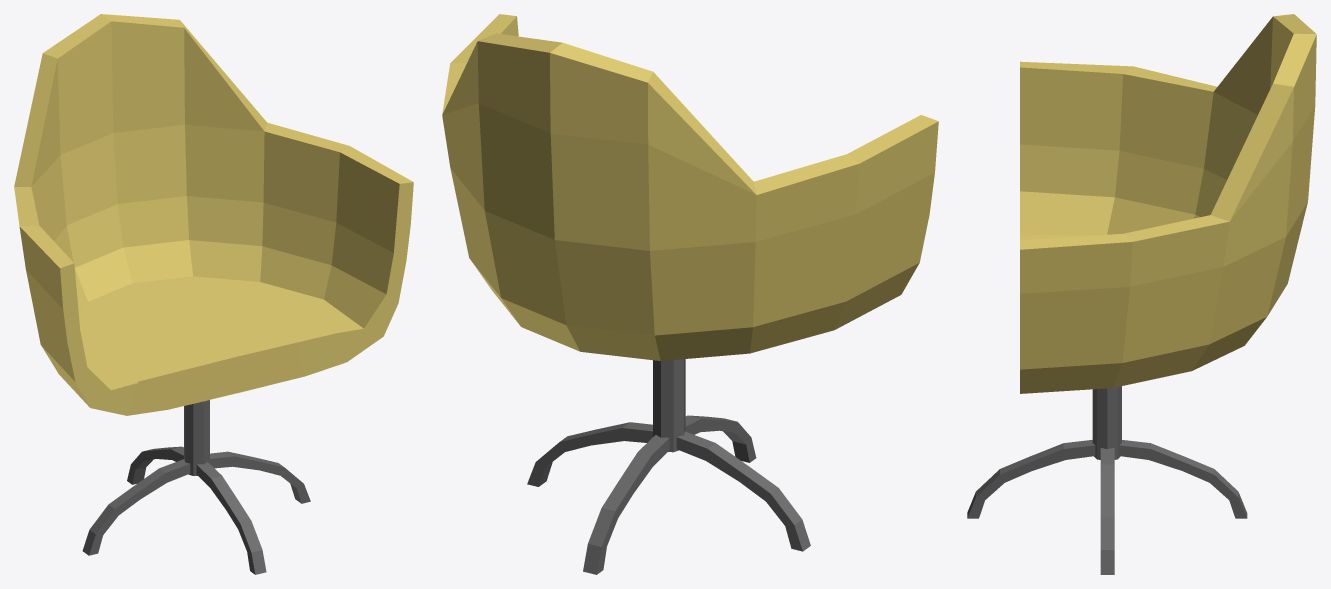
File: chaise1.fbx
The picture shows the model from 3 angles, left to right: view 1: azimuth 30°, elevation 25°; view 2: azimuth 150°, elevation 25°; view 3: azimuth 270°, elevation 25°; orthographic projection. The views are drawn at different scales.
Parts seen in each view (by area): view 1: Cylinder; view 2: Cylinder; view 3: Cylinder.
Boxes of the visible parts, x1,y1,x2,y2 form: Cylinder: (14,14,413,574); Cylinder: (442,14,938,574); Cylinder: (967,14,1316,574).
Bounding box in the file's own units: 260 × 311 × 204.
